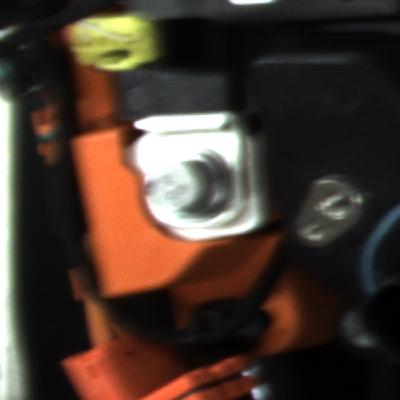nut_b: (147, 151, 238, 223)
